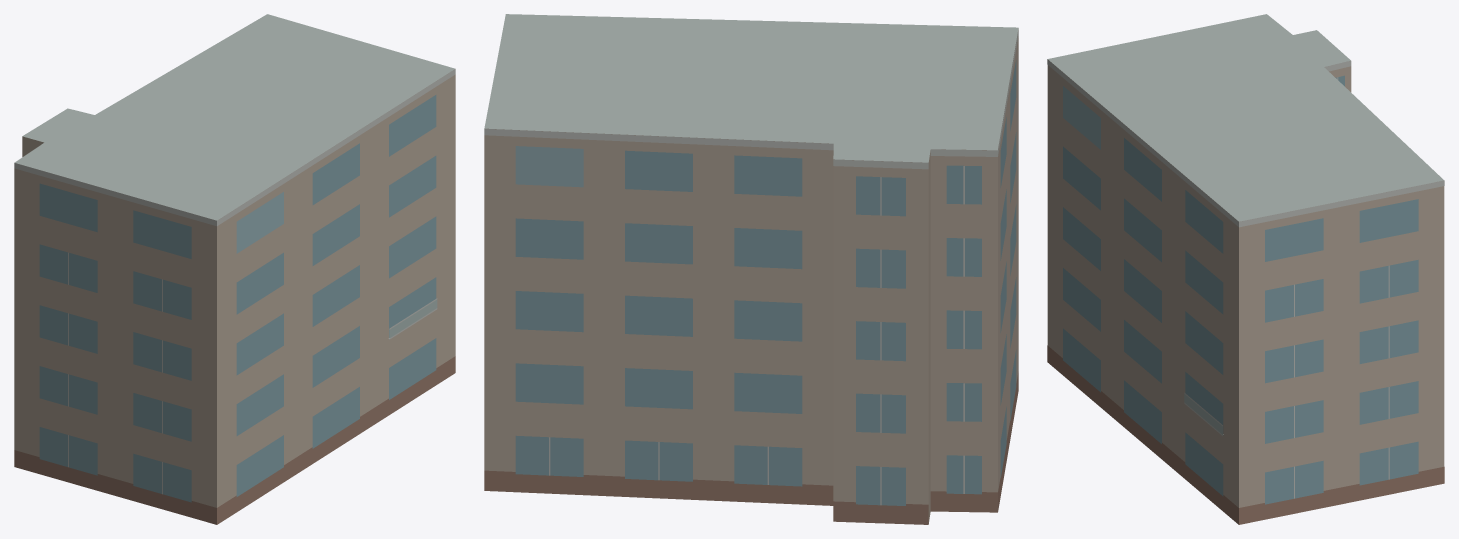
File: survey-upis-32949282.glb
3 views of the same model, side by side, from view 1: azimuth 30°, elevation 25°; view 2: azimuth 150°, elevation 25°; view 3: azimuth 270°, elevation 25° (orthographic). The views are drawn at different scales.
Visible parts, largest first — view 1: survey-upis-32949282.tmp; view 2: survey-upis-32949282.tmp; view 3: survey-upis-32949282.tmp.
Part boxes in pixels (box(x1,y1,x2,y2)): survey-upis-32949282.tmp: box(14, 14, 455, 524); survey-upis-32949282.tmp: box(484, 14, 1018, 524); survey-upis-32949282.tmp: box(1047, 14, 1444, 524).
Size of the model in its own units: 19.34 by 13.15 by 15.61.
